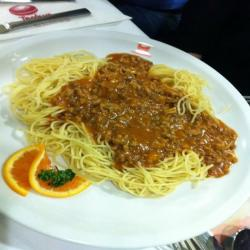bolonese_pasta: (14, 44, 235, 196)
